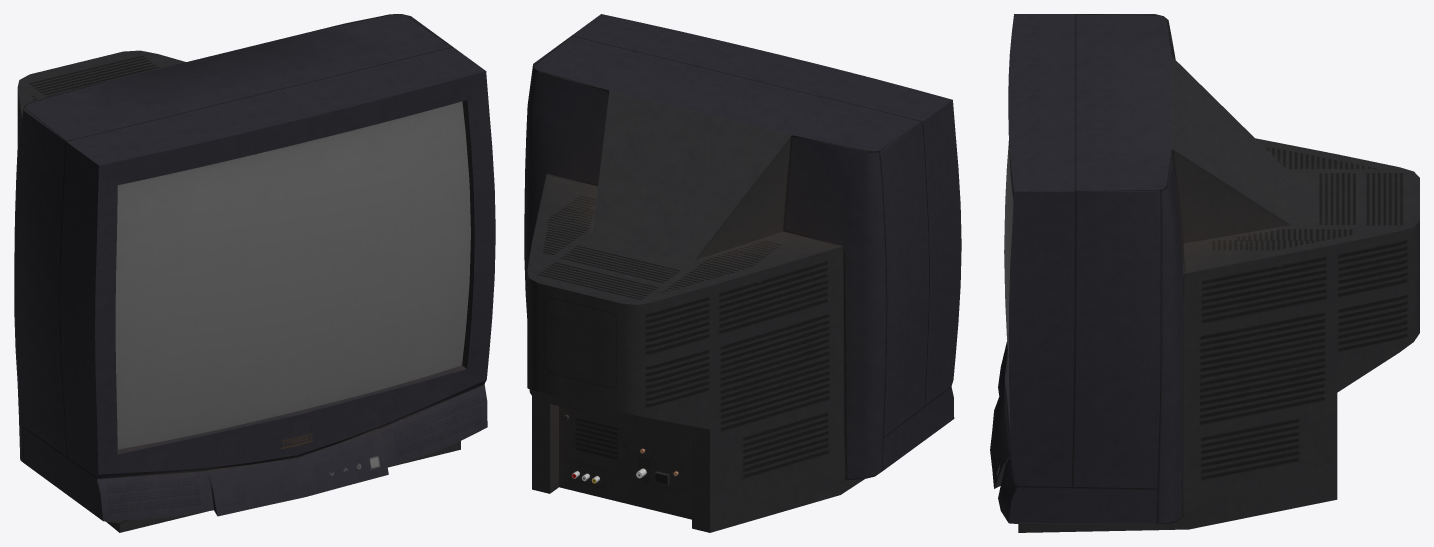
3 views of the same model, side by side, from view 1: azimuth 30°, elevation 25°; view 2: azimuth 150°, elevation 25°; view 3: azimuth 270°, elevation 25° (orthographic). The views are drawn at different scales.
Visible parts, largest first — view 1: 90sTV; view 2: 90sTV; view 3: 90sTV.
Boxes of the visible parts, x1,y1,x2,y2 form: 90sTV: (14,14,495,532); 90sTV: (524,14,961,532); 90sTV: (990,14,1419,532).
Bounding box in the file's own units: 0.5297 × 0.4731 × 0.5237.
Materials: 2 (2 with a texture image).
